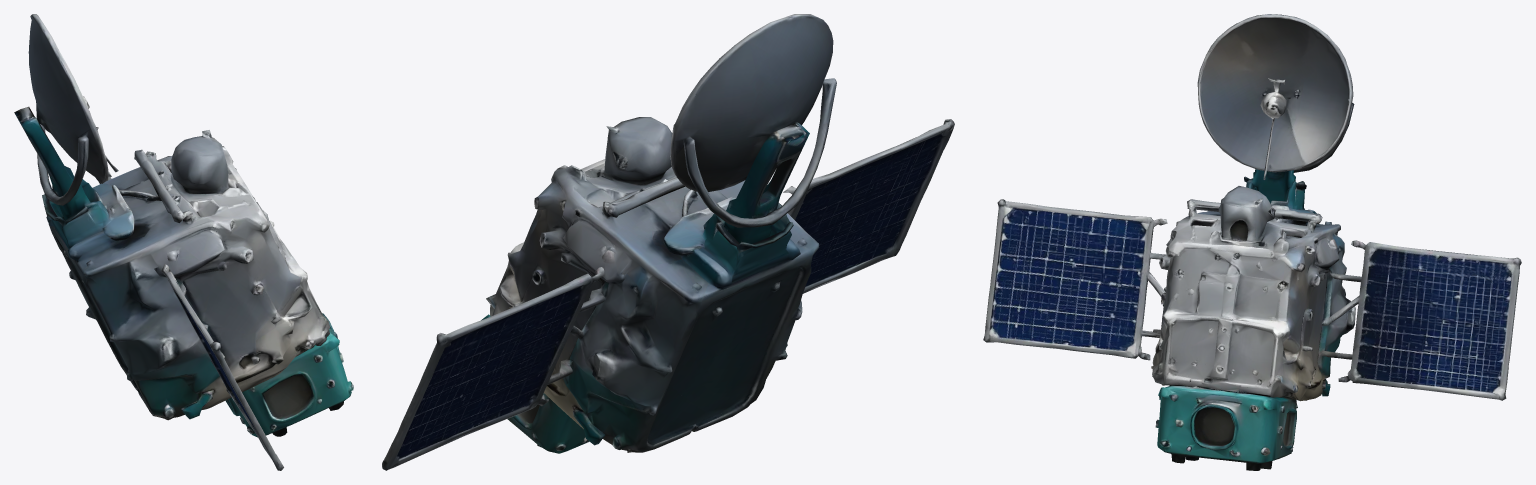
The model's file is satellite.glb.
3 views of the same model, side by side, from view 1: azimuth 30°, elevation 25°; view 2: azimuth 150°, elevation 25°; view 3: azimuth 270°, elevation 25° (orthographic). The views are drawn at different scales.
Visible parts, largest first — view 1: tripo_node_c8a2ac79-be97-49ad-97b4-b6668925a8eb; view 2: tripo_node_c8a2ac79-be97-49ad-97b4-b6668925a8eb; view 3: tripo_node_c8a2ac79-be97-49ad-97b4-b6668925a8eb.
Boxes of the visible parts, x1,y1,x2,y2 form: tripo_node_c8a2ac79-be97-49ad-97b4-b6668925a8eb: [14, 14, 353, 470]; tripo_node_c8a2ac79-be97-49ad-97b4-b6668925a8eb: [382, 14, 954, 470]; tripo_node_c8a2ac79-be97-49ad-97b4-b6668925a8eb: [983, 14, 1521, 470].
Size of the model in its own units: 0.5428 by 0.7439 by 0.9922.
1 material, 1 textured.
